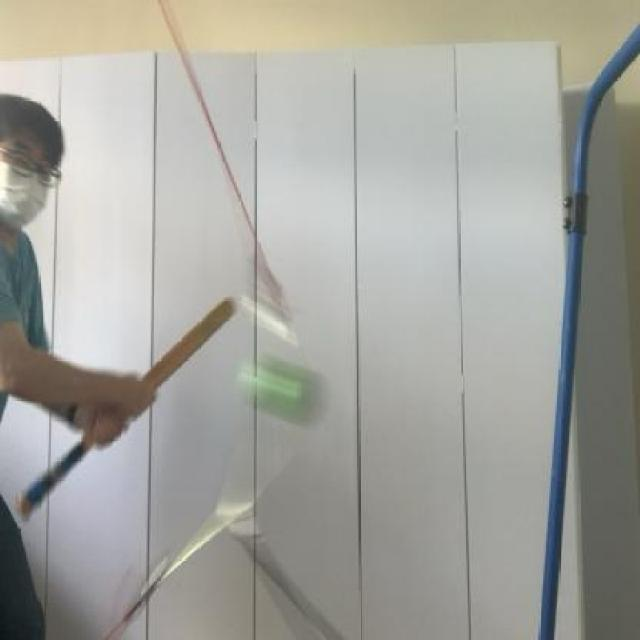baseball: (220, 348, 326, 426)
